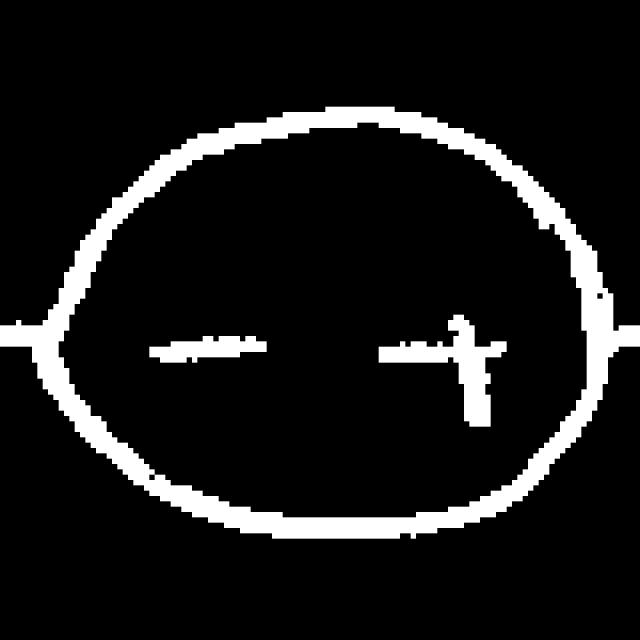voltage_source: (30, 92, 620, 554)
